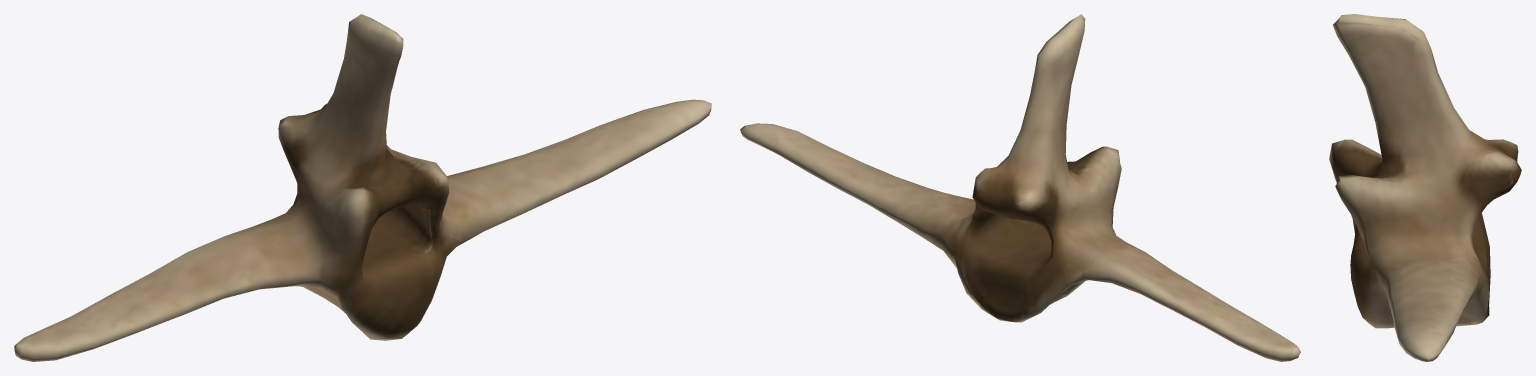
Rendered from Lumbar_Vertebrae2.glb.
3 renders of one model, left to right at view 1: azimuth 30°, elevation 25°; view 2: azimuth 150°, elevation 25°; view 3: azimuth 270°, elevation 25°, orthographic. The views are drawn at different scales.
Visible parts, largest first — view 1: Horse_low:SelSet_23Merged_L_Frt_Sesamoid_Bones_5; view 2: Horse_low:SelSet_23Merged_L_Frt_Sesamoid_Bones_5; view 3: Horse_low:SelSet_23Merged_L_Frt_Sesamoid_Bones_5.
Part boxes in pixels (<box>): Horse_low:SelSet_23Merged_L_Frt_Sesamoid_Bones_5: <box>14,14,711,361</box>; Horse_low:SelSet_23Merged_L_Frt_Sesamoid_Bones_5: <box>740,14,1300,361</box>; Horse_low:SelSet_23Merged_L_Frt_Sesamoid_Bones_5: <box>1329,14,1521,361</box>.
Bounding box in the file's own units: 0.3002 × 0.1378 × 0.0787.
Materials: 1 (1 with a texture image).
